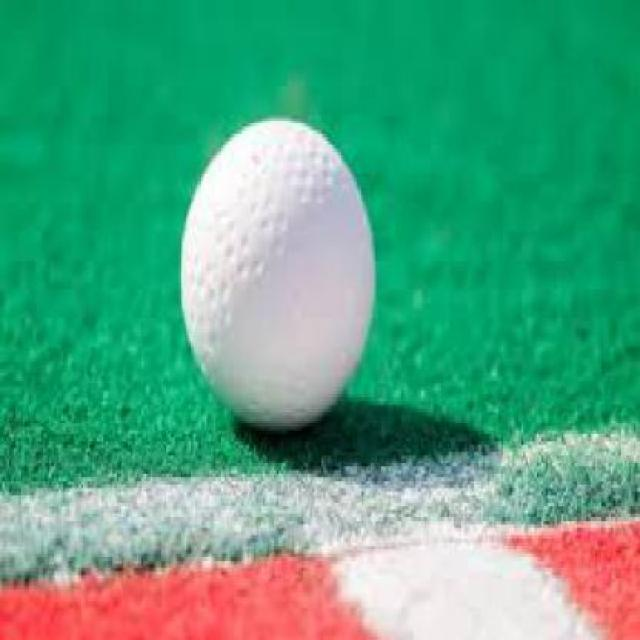ball: (148, 85, 452, 464)
